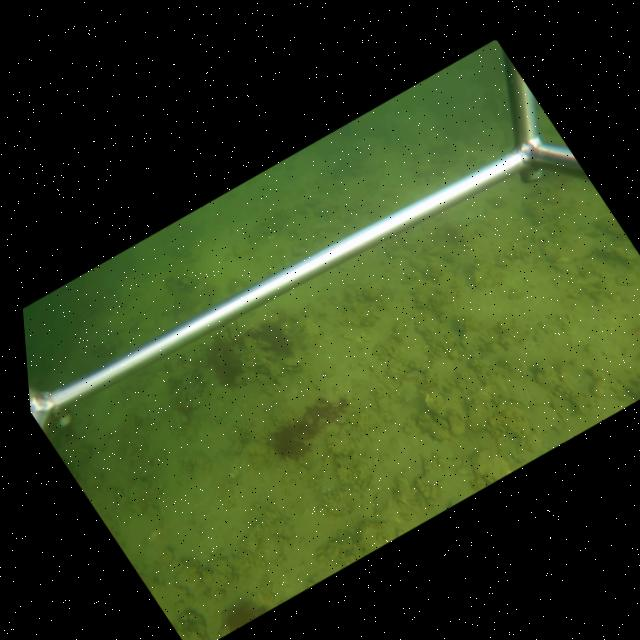Oyster-Closed: (415, 413, 453, 441)
Oyster-Open: (266, 353, 307, 372)
